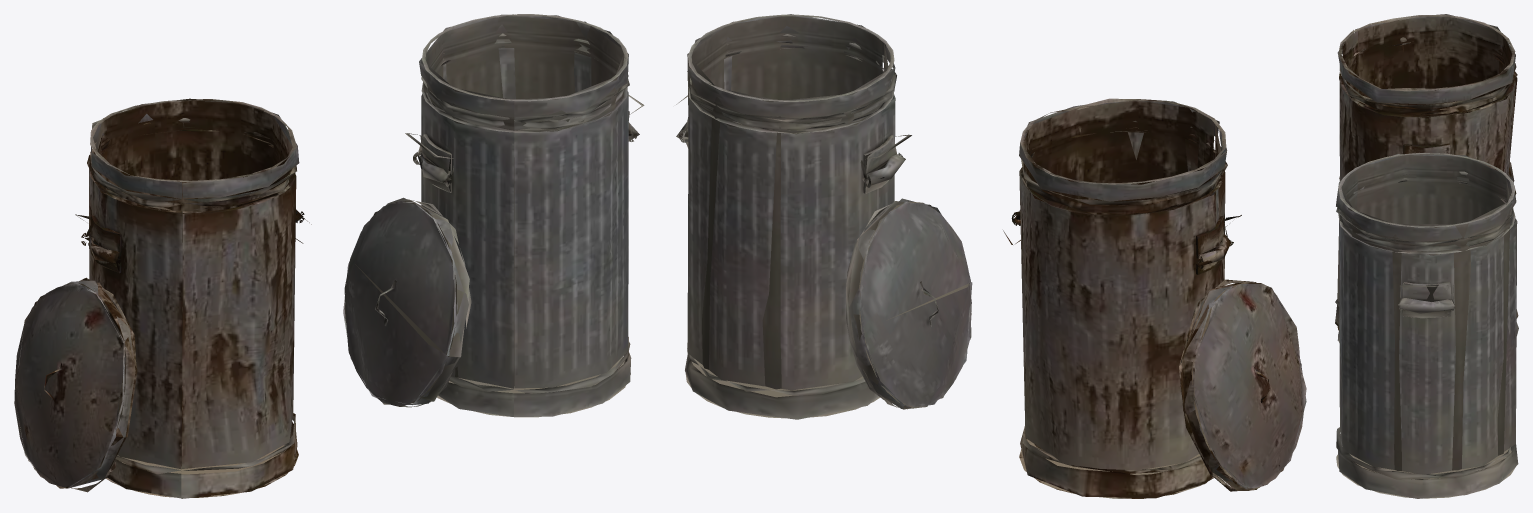
File: ph_metal_trash_can.glb
The picture shows the model from 3 angles, left to right: view 1: azimuth 30°, elevation 25°; view 2: azimuth 150°, elevation 25°; view 3: azimuth 270°, elevation 25°; orthographic projection. The views are drawn at different scales.
Visible parts, largest first — view 1: metal_trash_can_handle_left; view 2: metal_trash_can_handle_left; view 3: metal_trash_can_handle_left.
Part boxes in pixels (box(x1,y1,x2,y2)): metal_trash_can_handle_left: box(14, 14, 644, 498); metal_trash_can_handle_left: box(676, 14, 1306, 498); metal_trash_can_handle_left: box(1335, 14, 1518, 498).
Size of the model in its own units: 1.76 by 0.9064 by 0.5594.
Materials: 3 (3 with a texture image).
